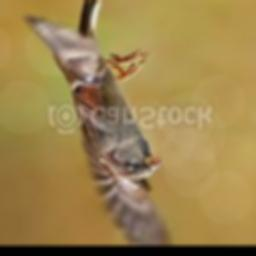Sparrow: (23, 0, 171, 246)
